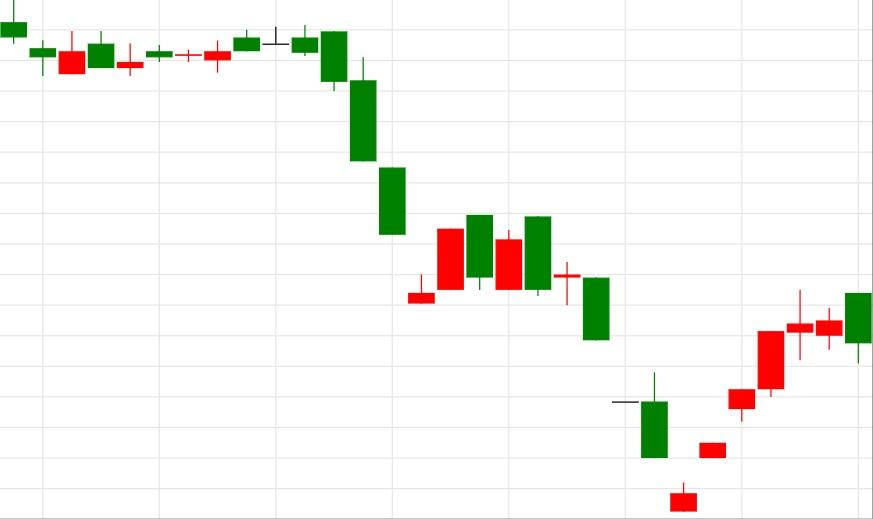three_black_crows_fall: (58, 24, 407, 235)
